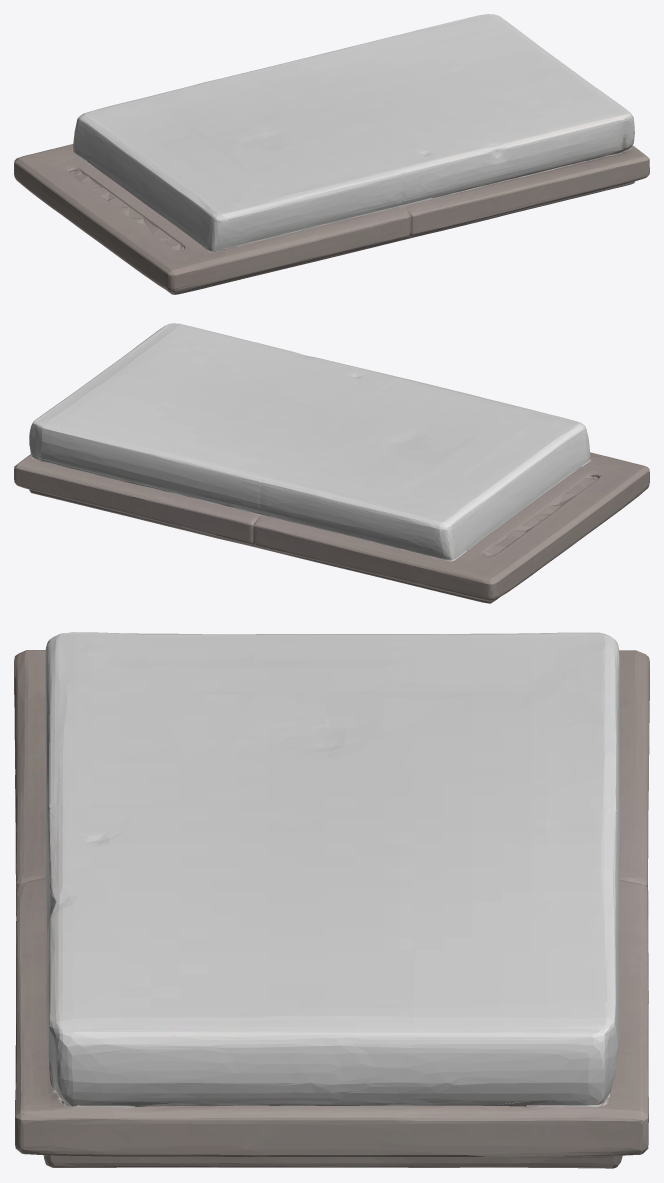
The picture shows the model from 3 angles, top to bottom: view 1: azimuth 30°, elevation 25°; view 2: azimuth 150°, elevation 25°; view 3: azimuth 270°, elevation 25°; orthographic projection. The views are drawn at different scales.
Visible parts, largest first — view 1: world; view 2: world; view 3: world.
Part boxes in pixels (x1,y1,x2,y2): world: (14,14,649,294); world: (14,323,649,603); world: (14,632,649,1168).
Size of the model in its own units: 0.9974 by 0.1396 by 0.5712.
1 material, 1 textured.
